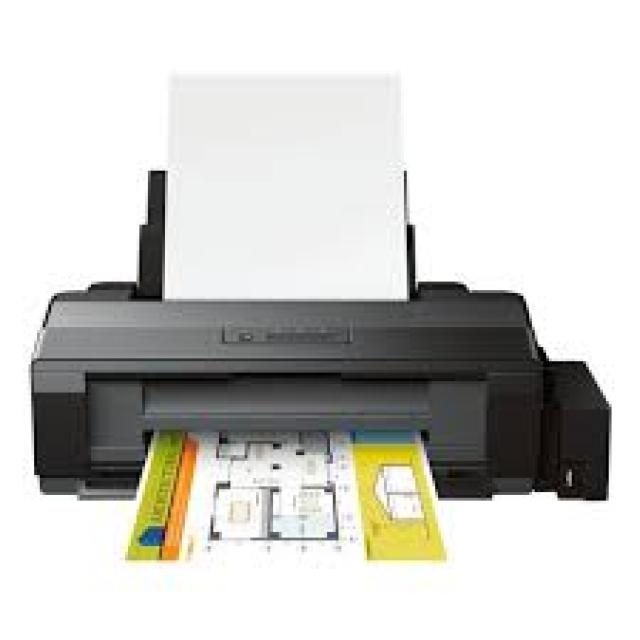printer: (21, 59, 614, 569)
